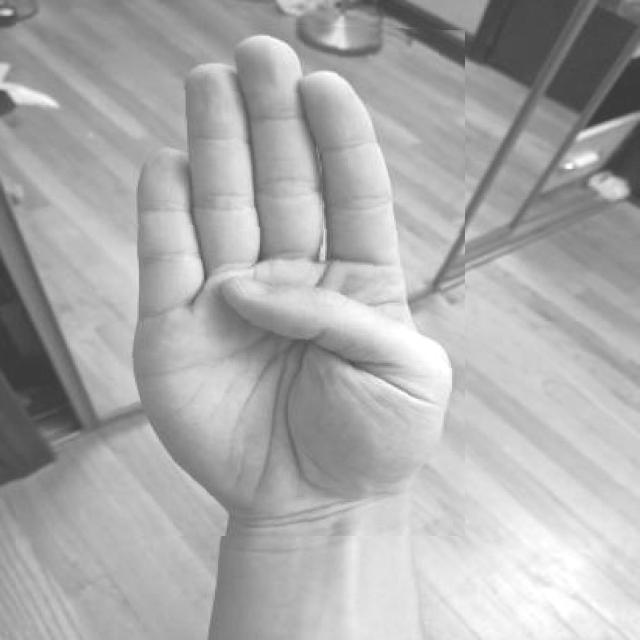B: (118, 21, 465, 536)
